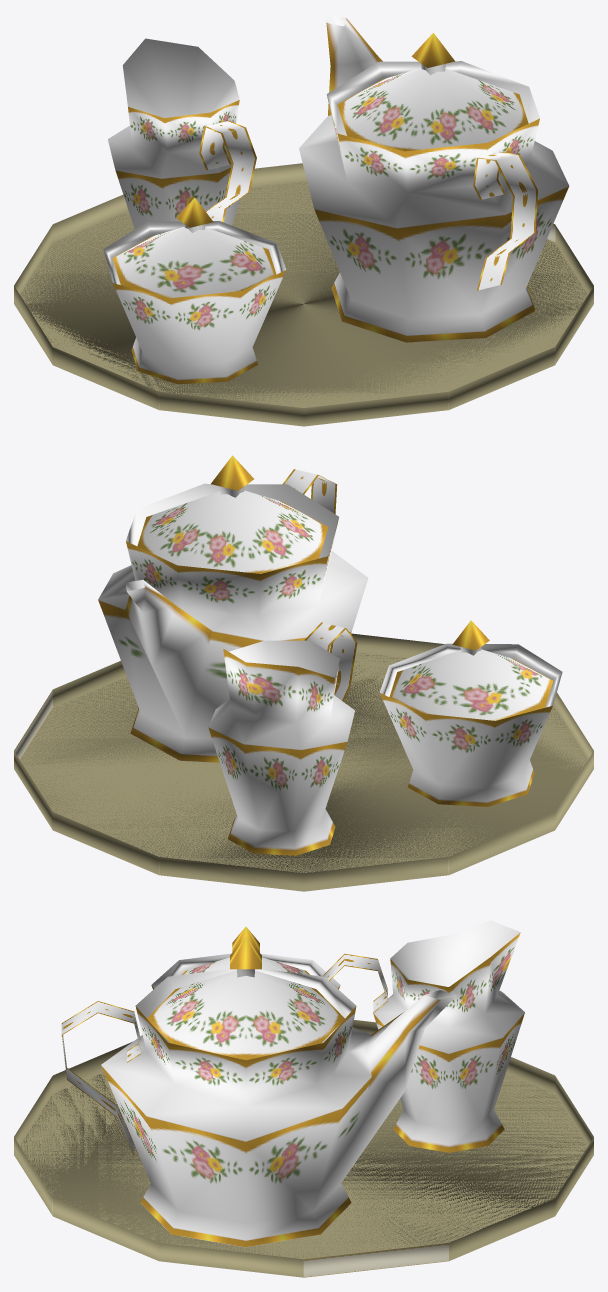
The model's file is ICON.ICO.obj.
3 renders of one model, top to bottom at view 1: azimuth 30°, elevation 25°; view 2: azimuth 150°, elevation 25°; view 3: azimuth 270°, elevation 25°, orthographic.
Bounding box in the file's own units: 4.5 × 2.29 × 4.5.
Materials: 1 (1 with a texture image).
